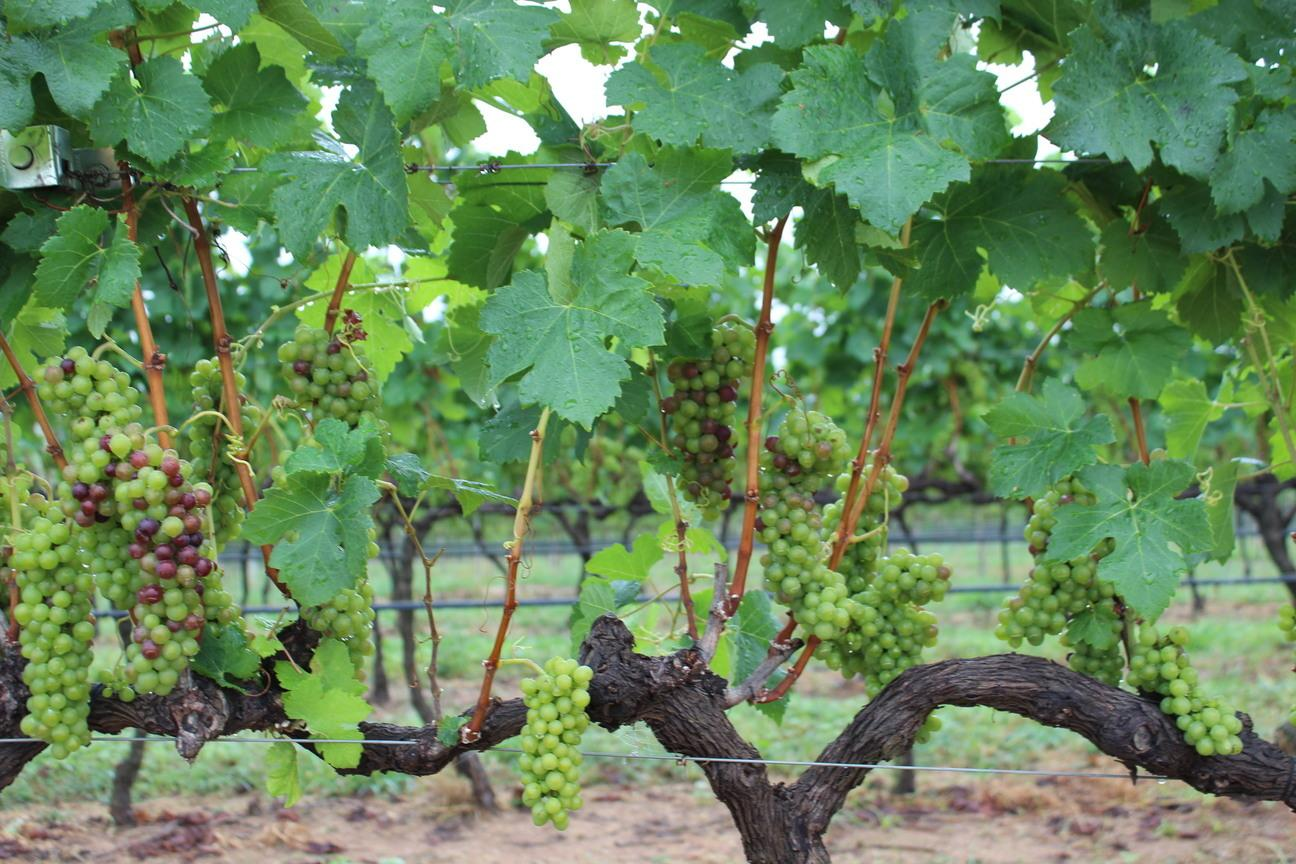leaf: (772, 12, 1007, 232), (481, 230, 661, 427), (1046, 10, 1245, 176), (1047, 459, 1208, 618), (905, 164, 1091, 298), (262, 83, 406, 256), (602, 147, 753, 283), (606, 41, 782, 152), (243, 472, 379, 604), (0, 2, 132, 129), (984, 378, 1113, 498), (89, 55, 211, 162), (1067, 299, 1190, 398), (355, 2, 454, 121), (33, 205, 138, 309), (201, 44, 306, 147), (337, 280, 437, 379), (444, 0, 559, 86), (275, 638, 372, 738), (1210, 103, 1295, 213), (793, 184, 859, 290), (1098, 211, 1183, 291), (1157, 178, 1245, 253), (284, 418, 385, 479), (543, 0, 640, 63), (1177, 256, 1244, 344), (1158, 379, 1225, 457), (722, 591, 778, 683), (189, 622, 260, 691), (257, 0, 344, 56), (0, 302, 66, 373), (754, 0, 848, 47), (753, 148, 811, 222), (1202, 460, 1239, 561), (585, 533, 662, 580), (569, 576, 616, 652), (543, 167, 597, 233), (2, 0, 101, 32), (1066, 604, 1119, 649), (266, 741, 301, 805), (185, 0, 256, 31), (305, 252, 343, 290), (315, 742, 361, 766), (436, 261, 442, 274), (355, 267, 357, 268), (356, 261, 357, 263)
